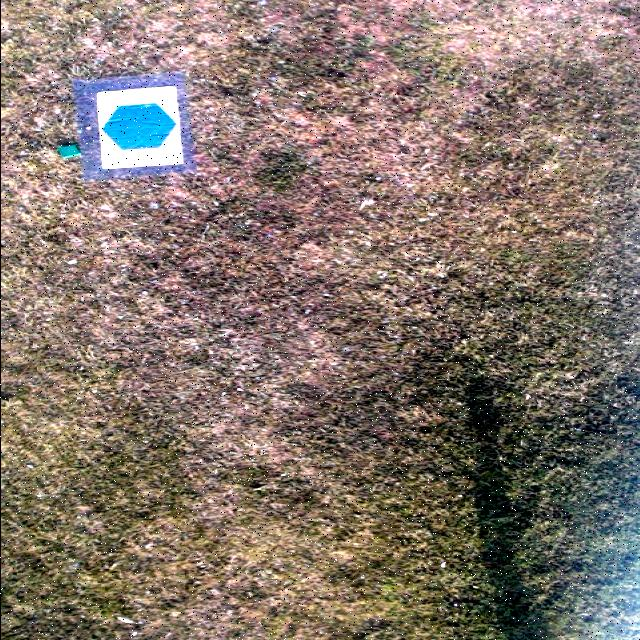blue_hexagon: (96, 103, 180, 150)
